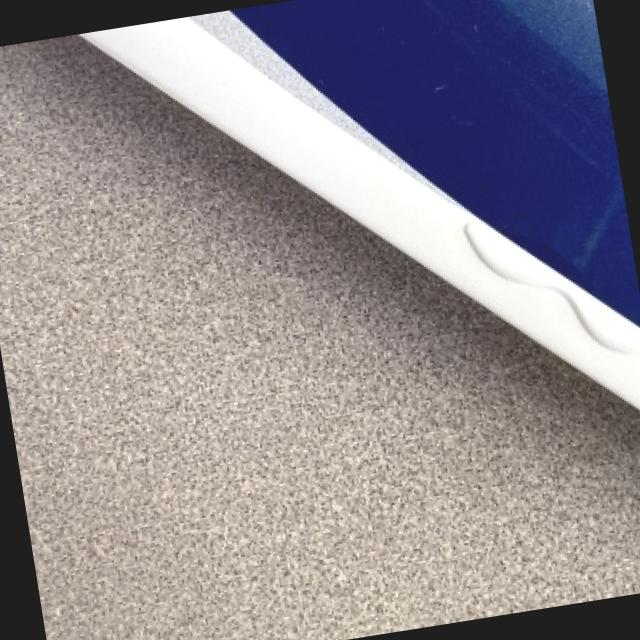healthy: (0, 37, 640, 640)
